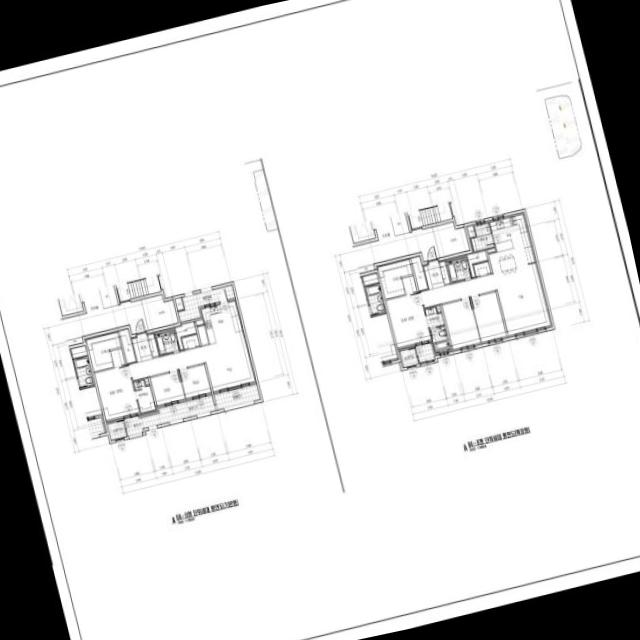background: (0, 0, 640, 640)
space_balconi: (123, 395, 215, 435), (177, 284, 234, 321), (213, 383, 259, 409)
space_bedroom: (385, 275, 431, 349), (94, 348, 139, 422), (441, 298, 480, 351), (470, 291, 506, 344), (150, 370, 184, 407), (178, 364, 210, 399)
space_dressroom: (83, 330, 120, 371), (375, 257, 412, 298)
space_elevator_hall: (60, 288, 147, 339), (352, 216, 439, 267)
space_front: (131, 332, 158, 361), (423, 259, 449, 289)
space_kitchen: (488, 210, 536, 273), (199, 298, 244, 344)
space_living_room: (420, 262, 552, 337), (128, 335, 256, 393)
space_multipurpose_space: (471, 220, 493, 251)
space_other: (432, 221, 469, 257), (140, 294, 177, 329), (174, 320, 195, 349), (118, 327, 135, 362), (410, 254, 427, 289), (466, 250, 487, 276), (390, 212, 409, 235), (98, 285, 117, 308), (415, 342, 435, 362), (196, 325, 208, 345), (473, 261, 490, 275), (181, 334, 198, 348), (66, 336, 82, 345), (357, 264, 374, 272), (465, 223, 474, 237), (174, 297, 183, 309), (194, 317, 203, 324), (487, 248, 494, 252), (436, 305, 440, 311), (144, 378, 148, 384)
space_outdoor_room: (398, 347, 417, 367), (106, 420, 126, 439)
space_staircase: (406, 201, 452, 228), (115, 274, 160, 301)
space_toilet: (425, 306, 449, 351), (133, 379, 155, 412), (154, 329, 178, 354), (446, 257, 470, 281)
